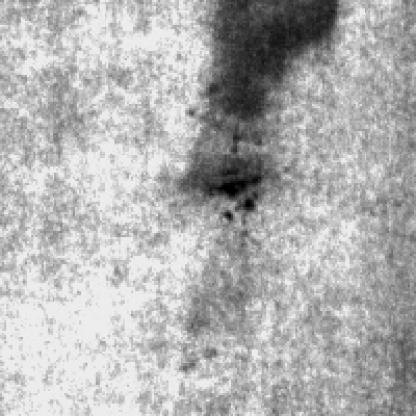inclusion: (206, 152, 264, 229)
patches: (199, 4, 340, 129)
